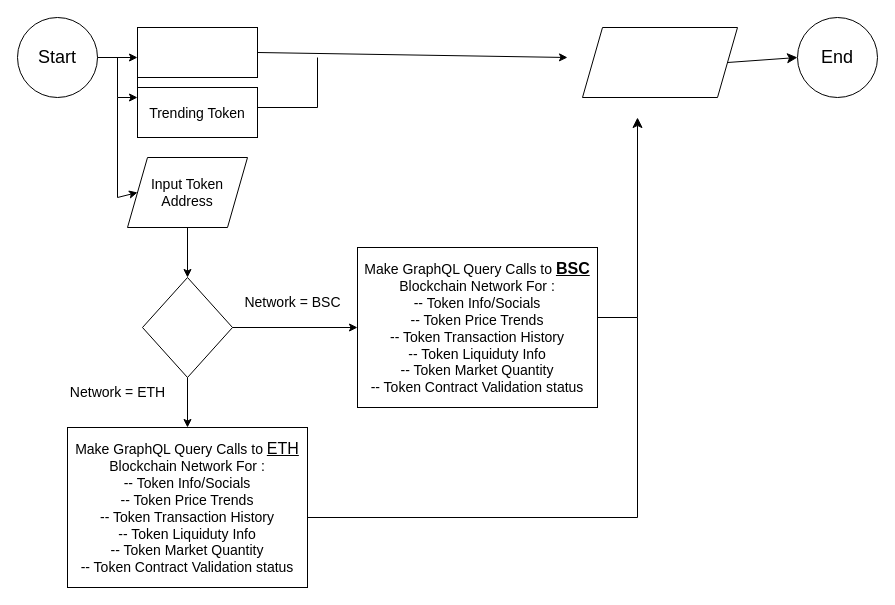
The diagram is 895 pixels wide and 605 high, and some of its shapes have lost their labels. The shapes that lost their labels are listed below. From the top down, each one's centre as x and y in pixels, then its label:
At [197,52]: "Top 50 tokens".
At [660,62]: "Show Respective Info Based on Request on SPA".
At [187,327]: "Check Token Network".
